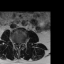CCS_normal: (19, 41, 20, 50)
LFS_severe_stenosis: (22, 41, 23, 45)
LLS_stenosis: (20, 41, 22, 46)
RFS_severe_stenosis: (15, 40, 17, 45)
RLS_severe_stenosis: (17, 41, 19, 47)
